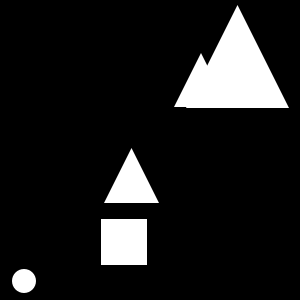circle: (101, 219, 147, 265)
rectangle: (12, 269, 36, 293)
triangle: (186, 5, 289, 108), (104, 148, 159, 203), (174, 53, 228, 107)
